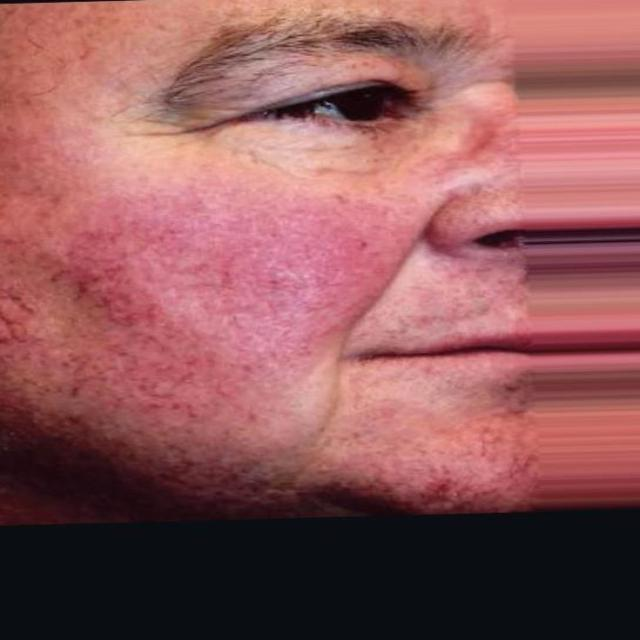Rosacea: (17, 167, 402, 404)
